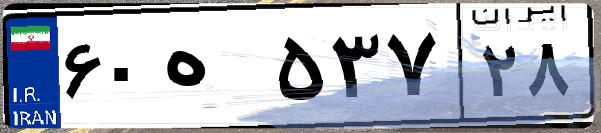0: (110, 28, 158, 98)
2: (475, 38, 525, 113)
3: (330, 28, 385, 110)
5: (270, 28, 330, 110)
6: (57, 26, 110, 100)
7: (385, 28, 445, 110)
8: (525, 38, 570, 115)
ه: (158, 20, 270, 120)
